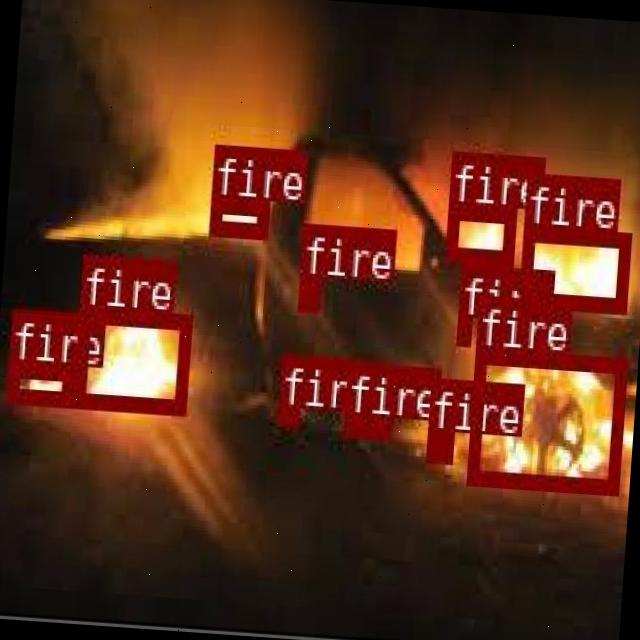fire: (465, 347, 625, 493), (72, 306, 190, 412), (518, 225, 629, 310), (442, 202, 514, 262), (5, 358, 72, 402), (208, 194, 266, 236), (342, 412, 388, 436), (426, 426, 452, 461), (295, 276, 319, 306), (454, 316, 470, 342), (275, 404, 296, 422)
